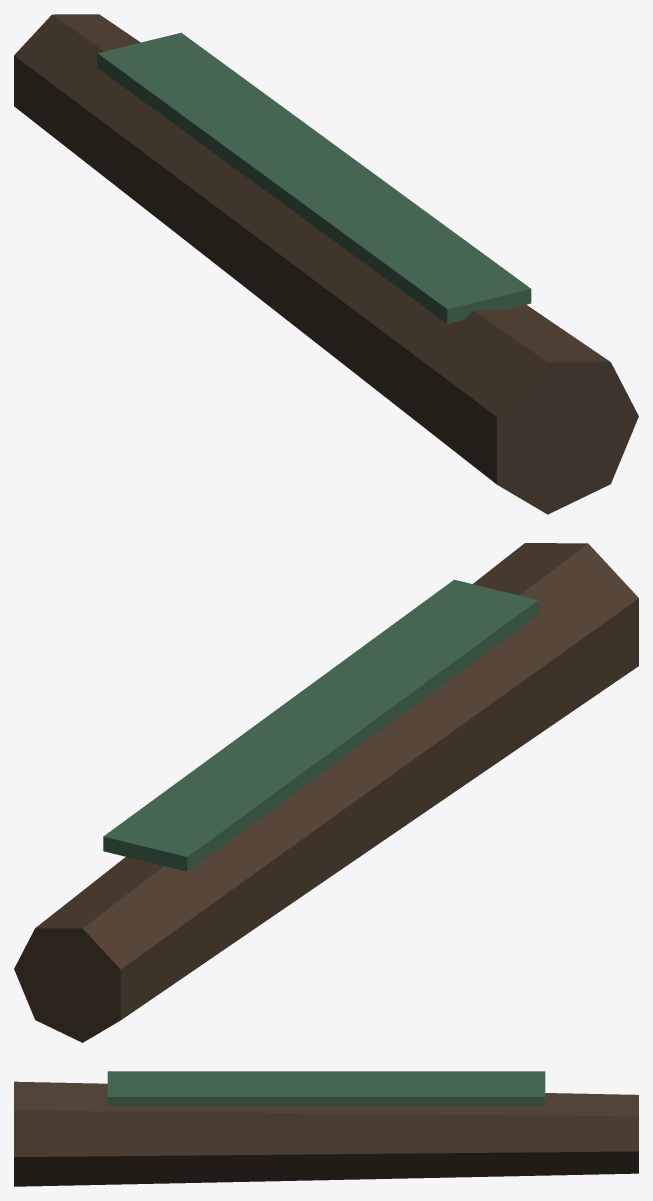
The model's file is fallen_log.glb.
The picture shows the model from 3 angles, top to bottom: view 1: azimuth 30°, elevation 25°; view 2: azimuth 150°, elevation 25°; view 3: azimuth 270°, elevation 25°; orthographic projection. The views are drawn at different scales.
Parts seen in each view (by area): view 1: fallen_log; view 2: fallen_log; view 3: fallen_log.
Part boxes in pixels (x1,y1,x2,y2): fallen_log: [14, 14, 638, 514]; fallen_log: [14, 543, 638, 1042]; fallen_log: [14, 1071, 638, 1186].
Size of the model in its own units: 0.3042 by 0.321 by 1.86.
Materials: 1 (1 with a texture image).
